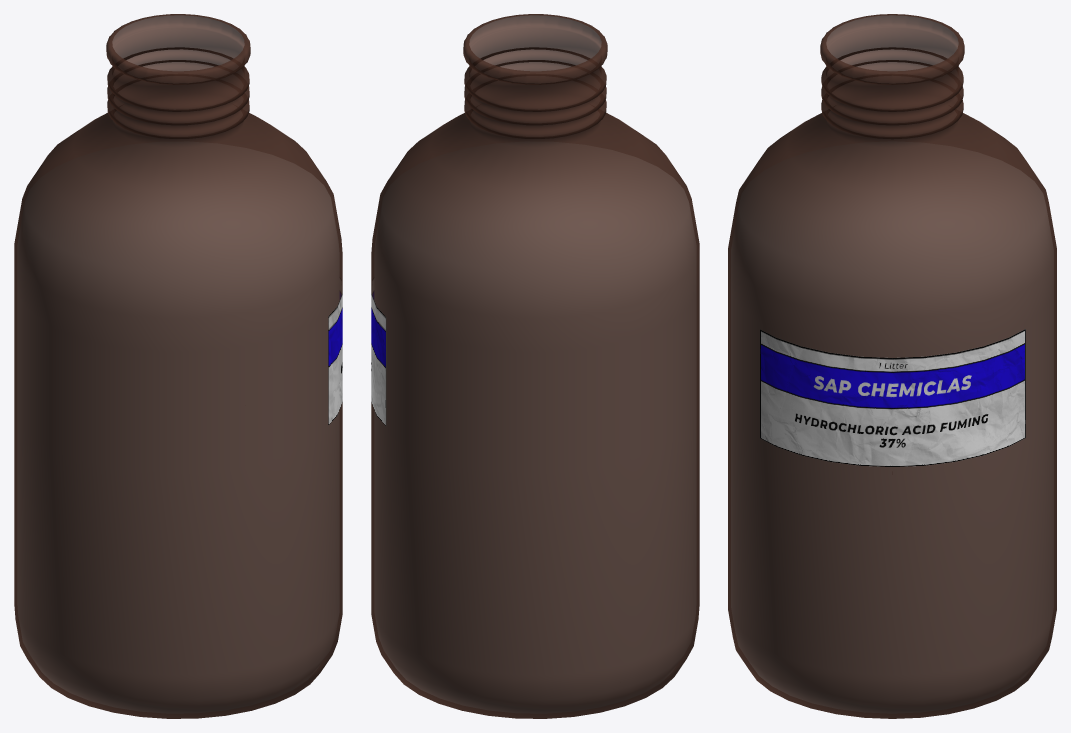
The model's file is Botol Chemical.fbx.
3 renders of one model, left to right at view 1: azimuth 30°, elevation 25°; view 2: azimuth 150°, elevation 25°; view 3: azimuth 270°, elevation 25°, orthographic.
Visible parts, largest first — view 1: Cylinder, Cylinder.002, Cylinder.001; view 2: Cylinder, Cylinder.002, Cylinder.001; view 3: Cylinder, Cylinder.002, Cylinder.001.
Boxes of the visible parts, box(x1,y1,x2,y2) form: Cylinder: box(14, 14, 342, 718); Cylinder.002: box(17, 141, 339, 713); Cylinder.001: box(328, 278, 342, 425); Cylinder: box(371, 14, 699, 718); Cylinder.002: box(374, 141, 696, 713); Cylinder.001: box(371, 278, 386, 425); Cylinder: box(728, 14, 1056, 718); Cylinder.002: box(731, 141, 1053, 713); Cylinder.001: box(760, 329, 1025, 466).
Size of the model in its own units: 253 by 526 by 253.
Materials: 2 (1 with a texture image).
